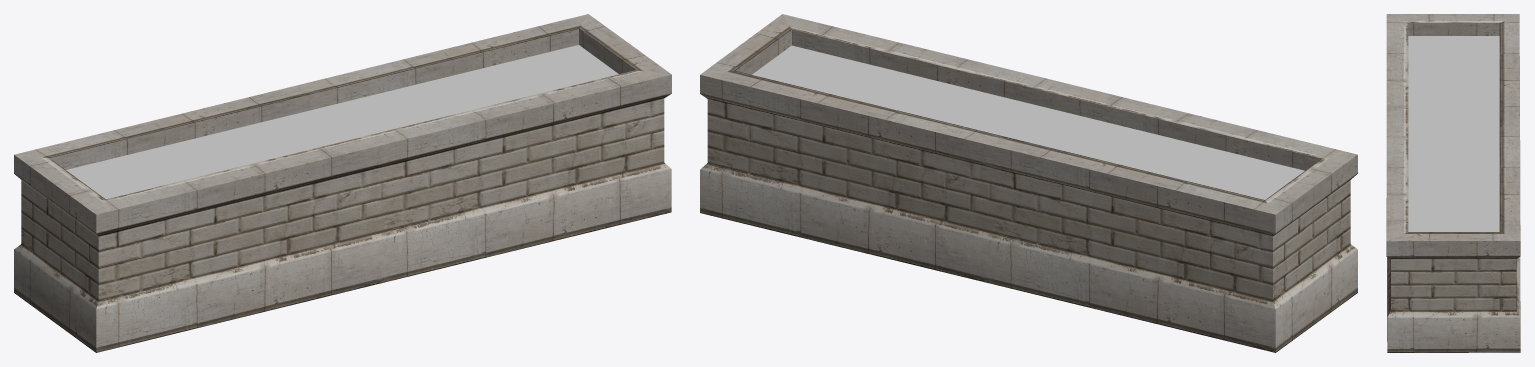
Rendered from Flowerbed_Low_2x.FBX.
3 views of the same model, side by side, from view 1: azimuth 30°, elevation 25°; view 2: azimuth 150°, elevation 25°; view 3: azimuth 270°, elevation 25° (orthographic). The views are drawn at different scales.
Visible parts, largest first — view 1: Flowerbed_Low_2x; view 2: Flowerbed_Low_2x; view 3: Flowerbed_Low_2x.
Part boxes in pixels (x1,y1,x2,y2): Flowerbed_Low_2x: (14, 14, 671, 352); Flowerbed_Low_2x: (700, 14, 1357, 352); Flowerbed_Low_2x: (1386, 14, 1520, 352).
Bounding box in the file's own units: 200 × 45.79 × 49.81.
